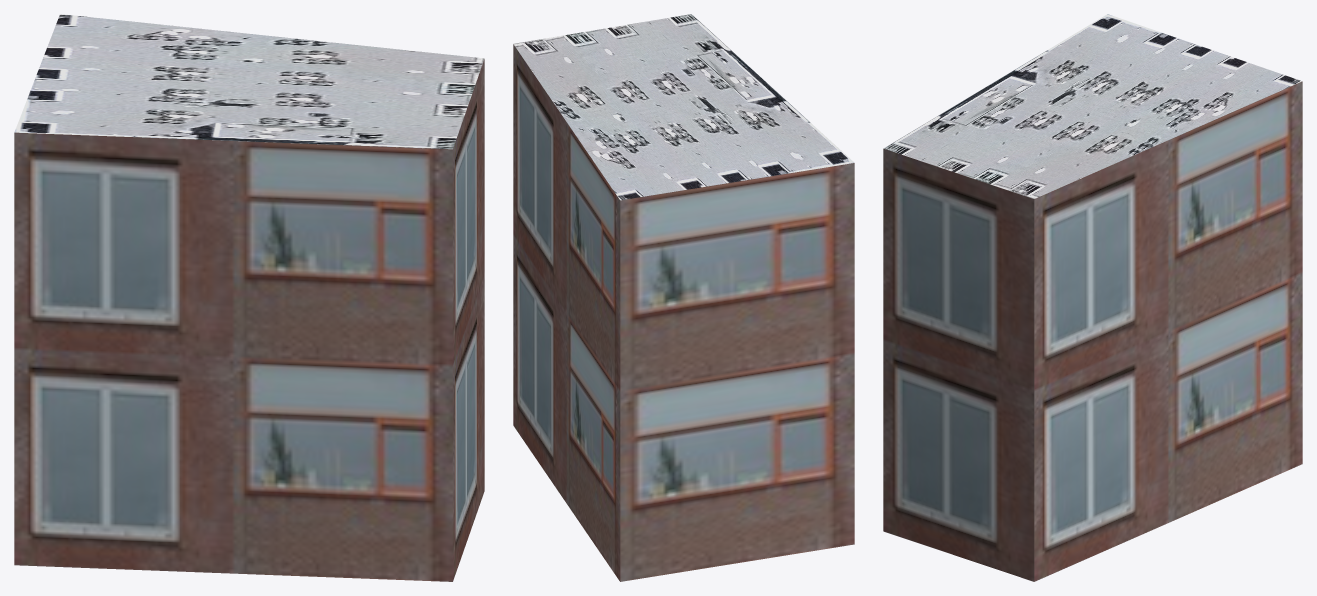
The model's file is ResTex__5145.fbx.
3 renders of one model, left to right at view 1: azimuth 30°, elevation 25°; view 2: azimuth 150°, elevation 25°; view 3: azimuth 270°, elevation 25°, orthographic. The views are drawn at different scales.
Parts seen in each view (by area): view 1: CityEngineMaterial_19_m, CityEngineMaterial_15_m; view 2: CityEngineMaterial_19_m, CityEngineMaterial_15_m; view 3: CityEngineMaterial_19_m, CityEngineMaterial_15_m.
Boxes of the visible parts, left/top/right/bottom form: CityEngineMaterial_19_m: left=14, top=59, right=484, bottom=581; CityEngineMaterial_15_m: left=14, top=14, right=484, bottom=149; CityEngineMaterial_19_m: left=513, top=44, right=854, bottom=581; CityEngineMaterial_15_m: left=513, top=14, right=854, bottom=200; CityEngineMaterial_19_m: left=883, top=81, right=1302, bottom=581; CityEngineMaterial_15_m: left=884, top=14, right=1301, bottom=198.
Size of the model in its own units: 6.22 by 6 by 5.95.
Materials: 2 (2 with a texture image).
